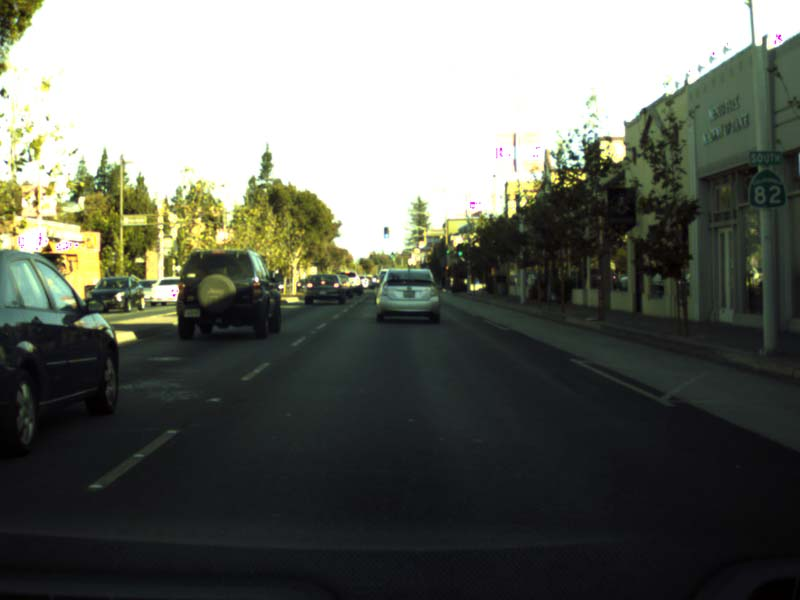Green: (457, 244, 463, 255), (383, 226, 388, 238), (446, 246, 450, 253), (391, 252, 393, 256)
